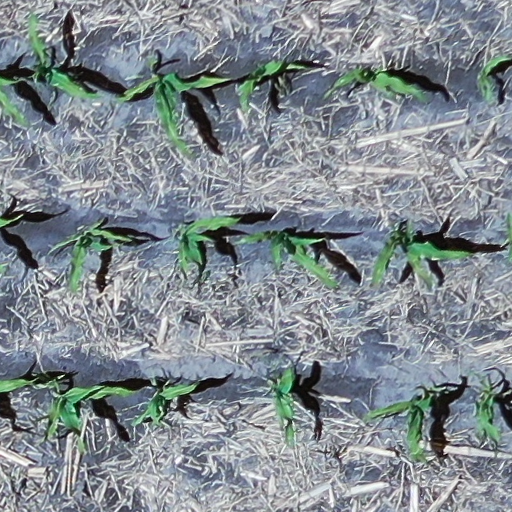planta: (108, 54, 234, 160), (370, 217, 481, 291), (45, 216, 133, 299), (22, 8, 100, 101), (44, 376, 136, 454), (364, 386, 445, 464), (230, 231, 338, 289), (239, 59, 317, 126), (178, 216, 243, 281), (321, 66, 431, 102), (134, 383, 198, 425), (466, 371, 502, 442), (270, 359, 297, 447)
